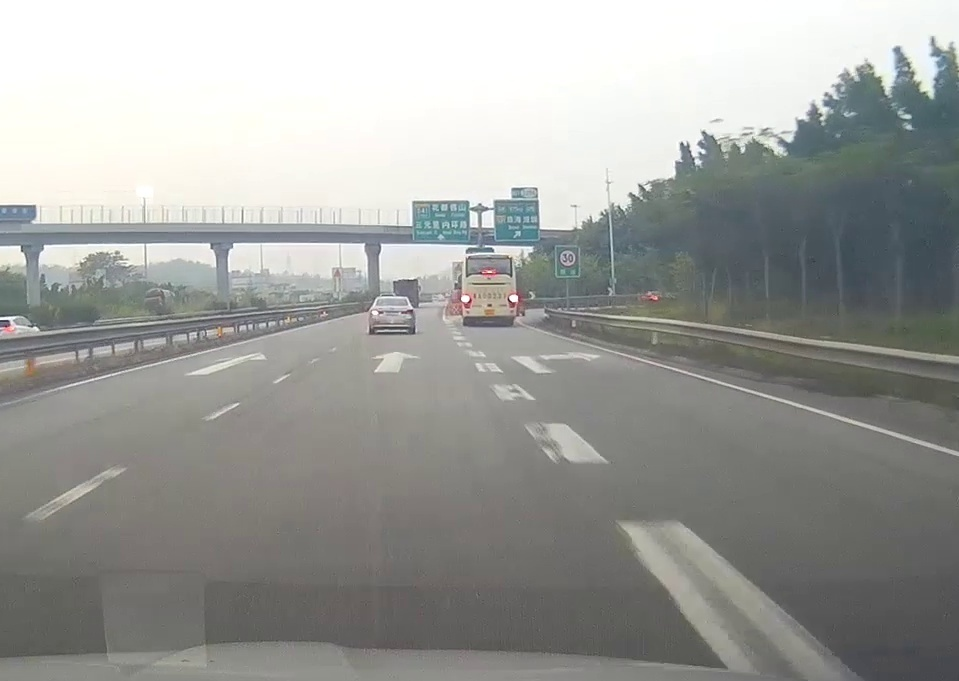L_light: (464, 294, 470, 309), (371, 310, 384, 315)
R_light: (509, 293, 516, 308), (401, 309, 413, 314)
T_light: (482, 270, 495, 274), (388, 298, 395, 301)
day-brake: (462, 253, 517, 326)
day-left: (368, 297, 415, 335)
